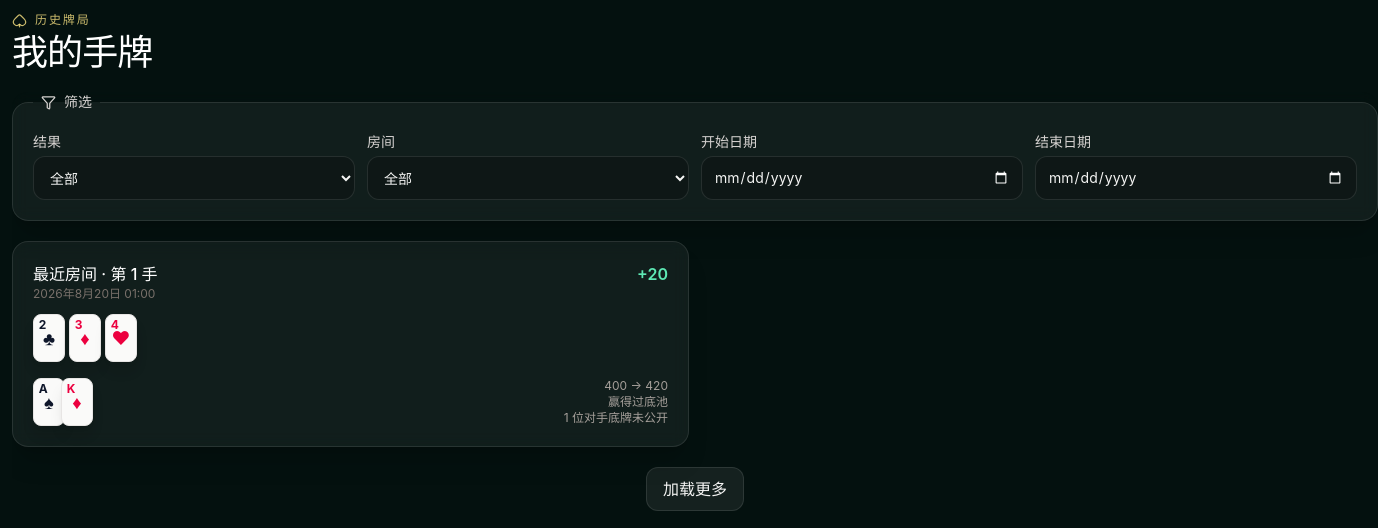
HandsPage history pagination and filters › loads more hands and offers rooms not present on the first hand page
Expected: the text "最近房间 · 第 1 手" is shown, [33,262,158,286]
Click the button "加载更多": click(695, 489) [646,467,744,511]
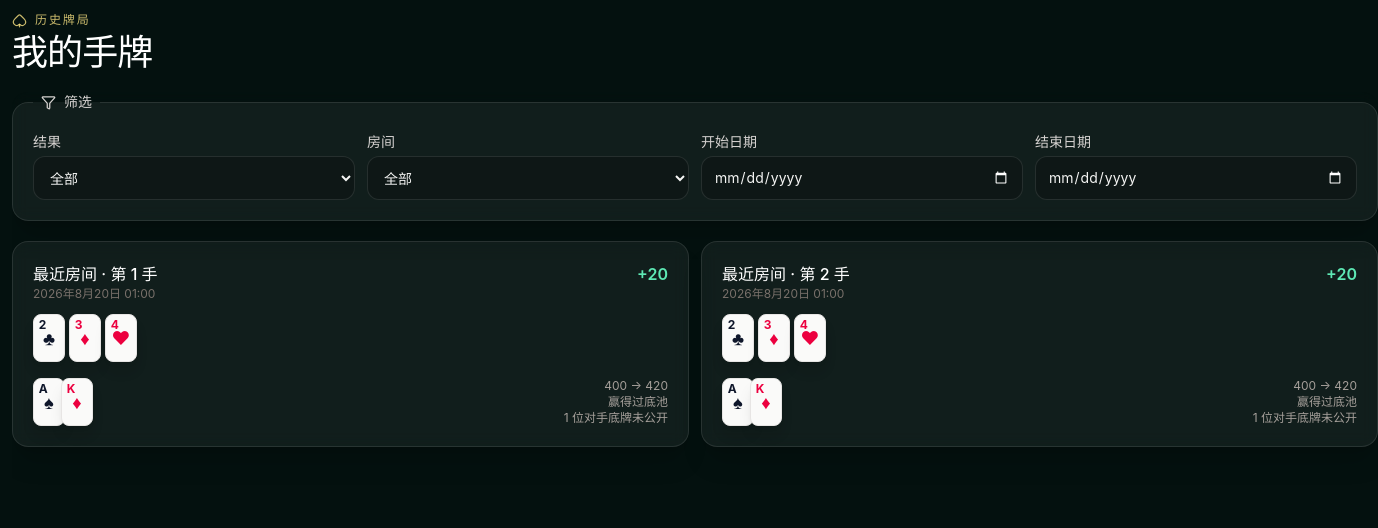
Result: the text "最近房间 · 第 2 手" is shown at [722,262,850,286]
